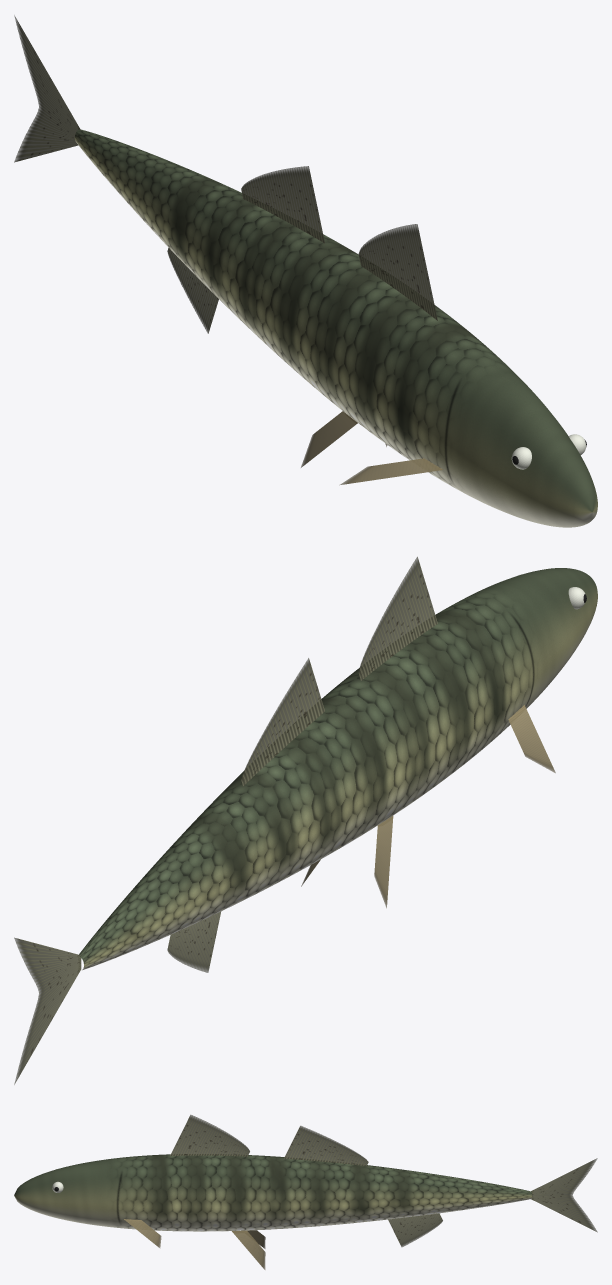
Rendered from sudak.glb.
3 renders of one model, top to bottom at view 1: azimuth 30°, elevation 25°; view 2: azimuth 150°, elevation 25°; view 3: azimuth 270°, elevation 25°, orthographic. The views are drawn at different scales.
Visible parts, largest first — view 1: body, fin_dorsal0, fin_tail, fin_dorsal1, fin_anal0, fin_pect_R, fin_pelv_R; view 2: body, fin_dorsal0, fin_tail, fin_dorsal1, fin_anal0, fin_pect_R, fin_pelv_R; view 3: body, fin_dorsal0, fin_tail, fin_dorsal1, fin_anal0, fin_pelv_L, fin_pect_L.
Part boxes in pixels (left/top/right/bottom): body: left=74, top=129, right=597, bottom=527; fin_dorsal0: left=358, top=224, right=437, bottom=320; fin_tail: left=14, top=15, right=80, bottom=162; fin_dorsal1: left=241, top=166, right=324, bottom=243; fin_anal0: left=167, top=247, right=218, bottom=333; fin_pect_R: left=339, top=458, right=443, bottom=485; fin_pelv_R: left=301, top=411, right=357, bottom=467; body: left=79, top=568, right=597, bottom=970; fin_dorsal0: left=358, top=556, right=437, bottom=680; fin_tail: left=14, top=937, right=81, bottom=1084; fin_dorsal1: left=241, top=658, right=324, bottom=786; fin_anal0: left=167, top=911, right=221, bottom=972; fin_pect_R: left=508, top=705, right=555, bottom=772; fin_pelv_R: left=374, top=816, right=393, bottom=908; body: left=14, top=1154, right=531, bottom=1231; fin_dorsal0: left=170, top=1115, right=249, bottom=1156; fin_tail: left=531, top=1158, right=597, bottom=1232; fin_dorsal1: left=284, top=1126, right=368, bottom=1166; fin_anal0: left=388, top=1213, right=442, bottom=1247; fin_pelv_L: left=232, top=1230, right=265, bottom=1269; fin_pect_L: left=124, top=1219, right=161, bottom=1247.
Bounding box in the file's own units: 0.1408 × 0.1786 × 0.65.
5 materials, 3 textured.
